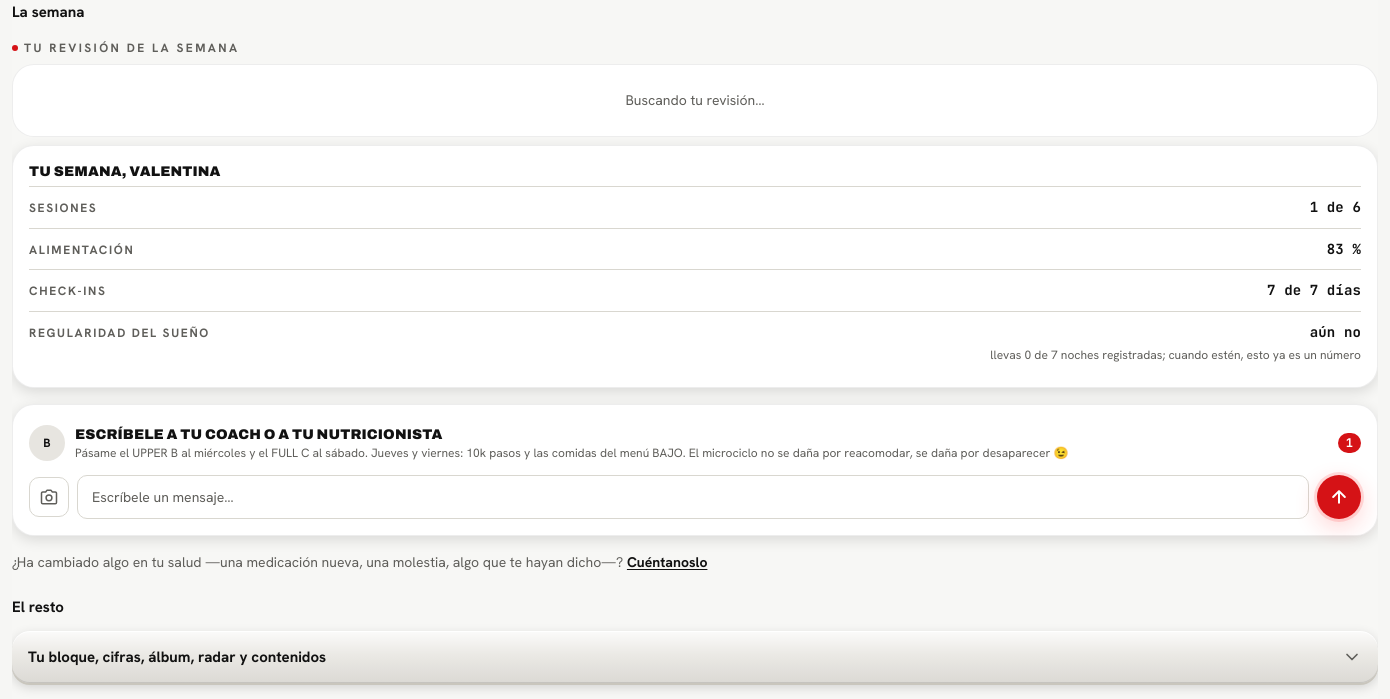
Test: Hoy del asesorado — lo que se conserva › bloque actual, álbum y radar siguen en la pantalla; el mapa de fatiga vive en Progreso
(page scrolled)
Click the button named "El resto". click: {"x": 55, "y": 656}
box: [12, 631, 1378, 683]
(page scrolled)
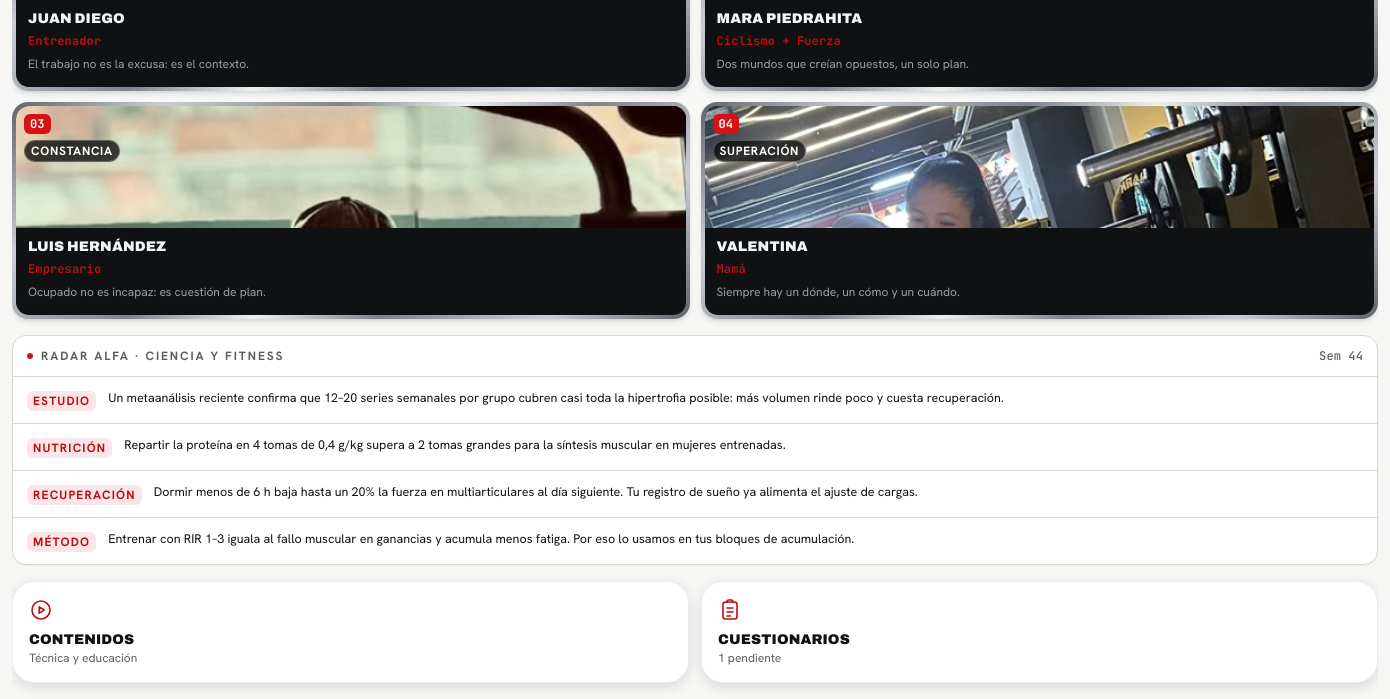
Check: the heading "Radar Alfa · ciencia y fitness" is shown, box [41, 348, 284, 364]
